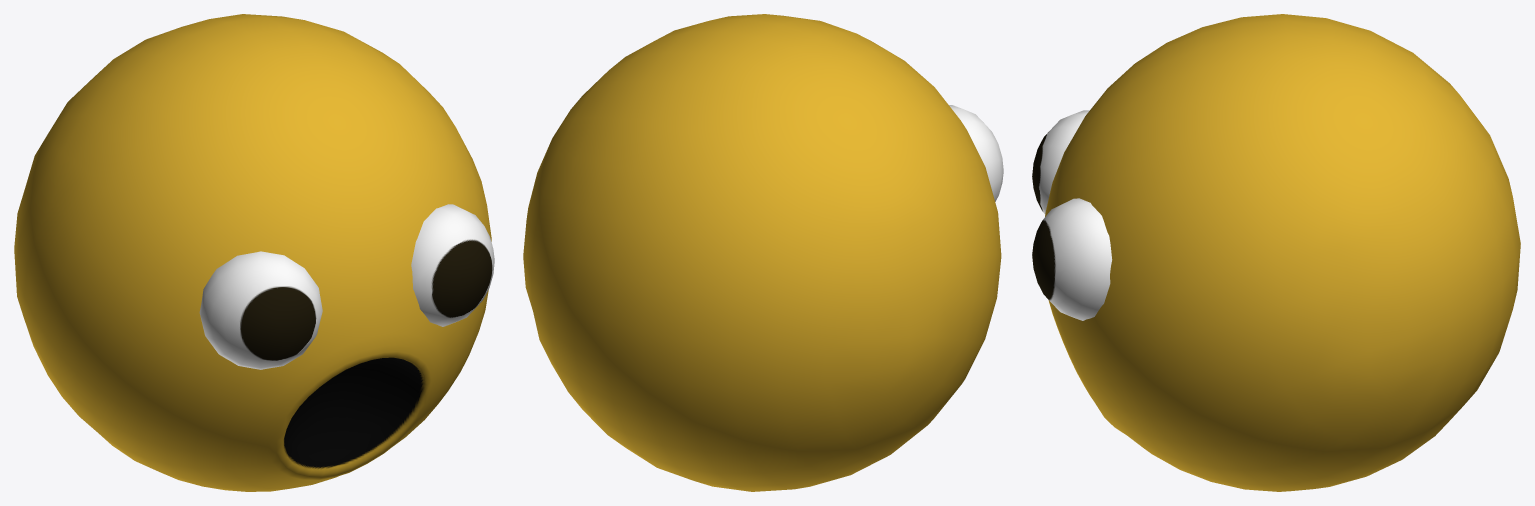
File: emoji_wow.fbx
3 views of the same model, side by side, from view 1: azimuth 30°, elevation 25°; view 2: azimuth 150°, elevation 25°; view 3: azimuth 270°, elevation 25° (orthographic).
Parts seen in each view (by area): view 1: emoji_wow2; view 2: emoji_wow2; view 3: emoji_wow2.
Boxes of the visible parts, x1,y1,x2,y2 form: emoji_wow2: [14, 14, 494, 491]; emoji_wow2: [523, 14, 1003, 491]; emoji_wow2: [1032, 14, 1520, 491].
Size of the model in its own units: 0.9894 by 0.9893 by 1.01.
1 material, 1 textured.
